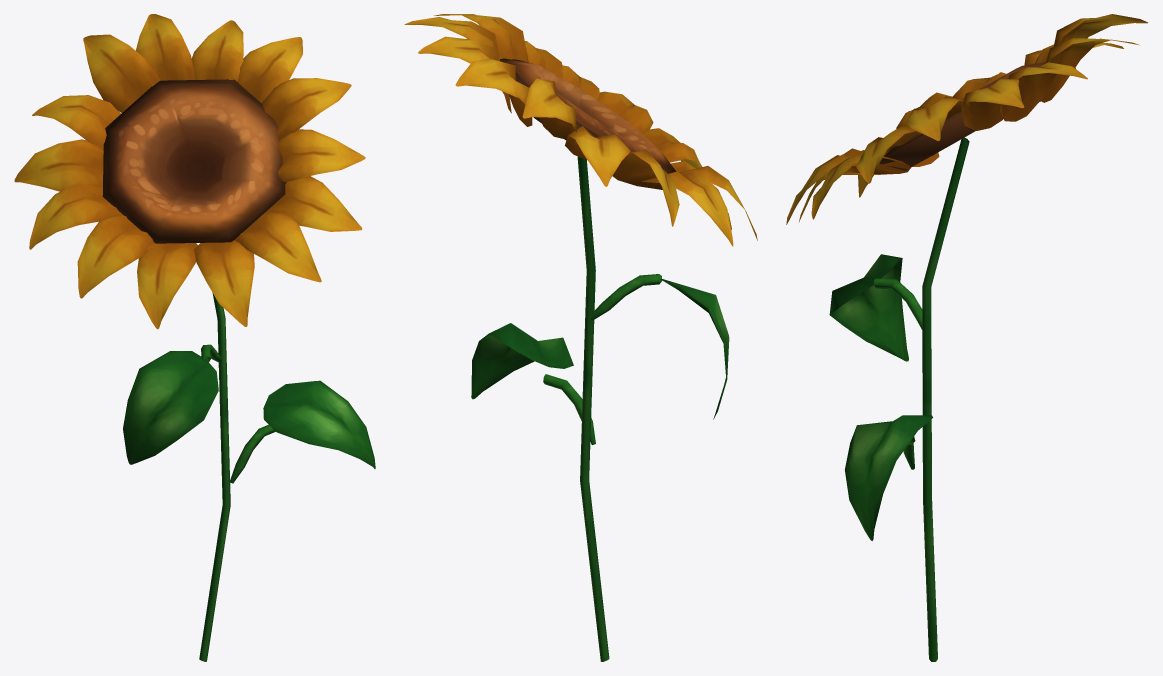
The model's file is sunflower.fbx.
3 views of the same model, side by side, from view 1: azimuth 30°, elevation 25°; view 2: azimuth 150°, elevation 25°; view 3: azimuth 270°, elevation 25° (orthographic). The views are drawn at different scales.
Visible parts, largest first — view 1: sunflower; view 2: sunflower; view 3: sunflower.
Boxes of the visible parts, <box> form: sunflower: <box>14,14,375,661</box>; sunflower: <box>404,14,757,661</box>; sunflower: <box>786,14,1147,661</box>.
Bounding box in the file's own units: 22.1 × 41.4 × 21.06.
